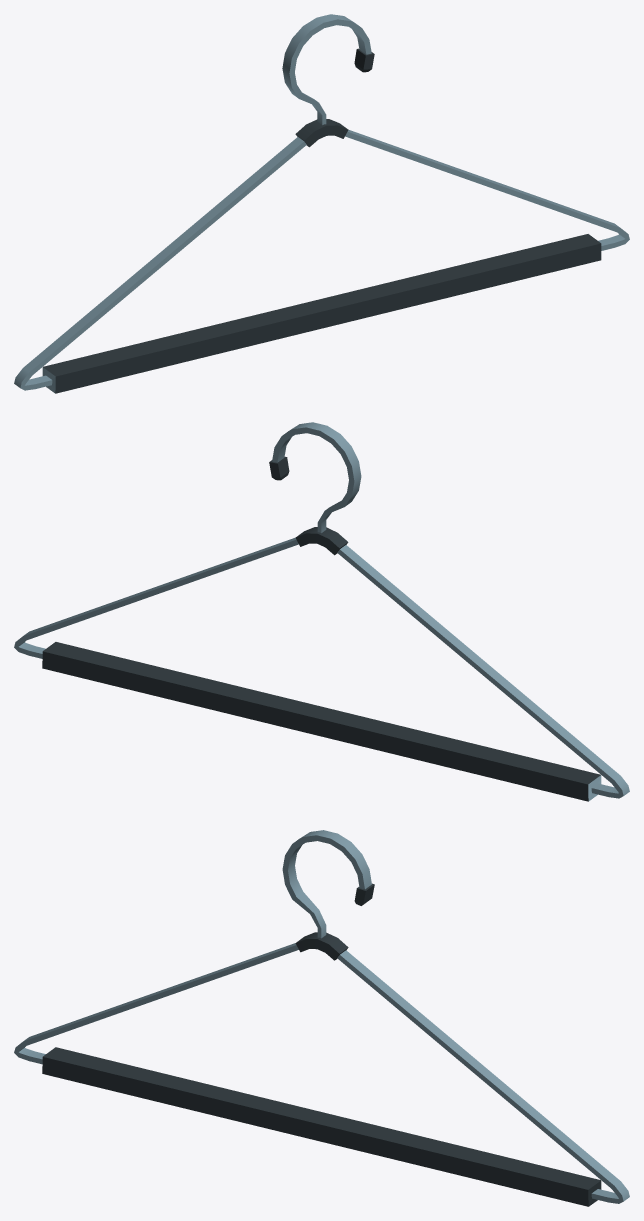
Rendered from Gancho.FBX.
3 renders of one model, top to bottom at view 1: azimuth 30°, elevation 25°; view 2: azimuth 150°, elevation 25°; view 3: azimuth 330°, elevation 25°, orthographic.
Parts seen in each view (by area): view 1: Torus001; view 2: Torus001; view 3: Torus001.
Part boxes in pixels (box(x1,y1,x2,y2)): Torus001: box(14, 14, 629, 393); Torus001: box(14, 422, 629, 801); Torus001: box(14, 830, 629, 1206).
Size of the model in its own units: 133 by 5 by 63.23.
